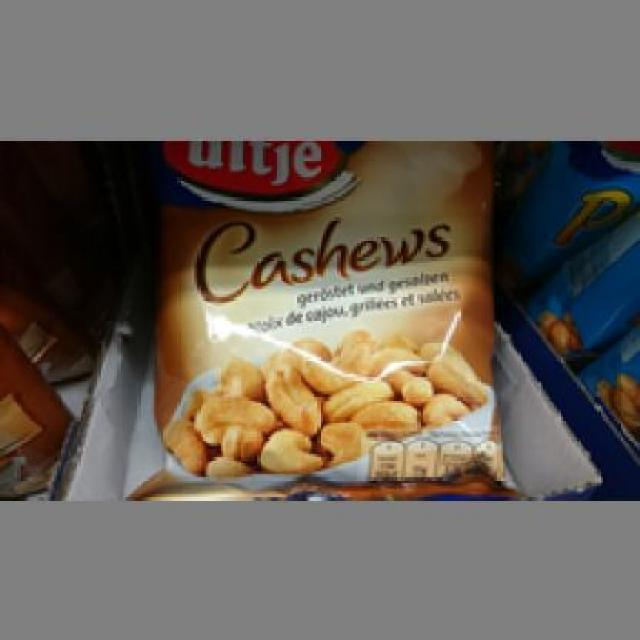Nuts: (148, 140, 514, 497)
